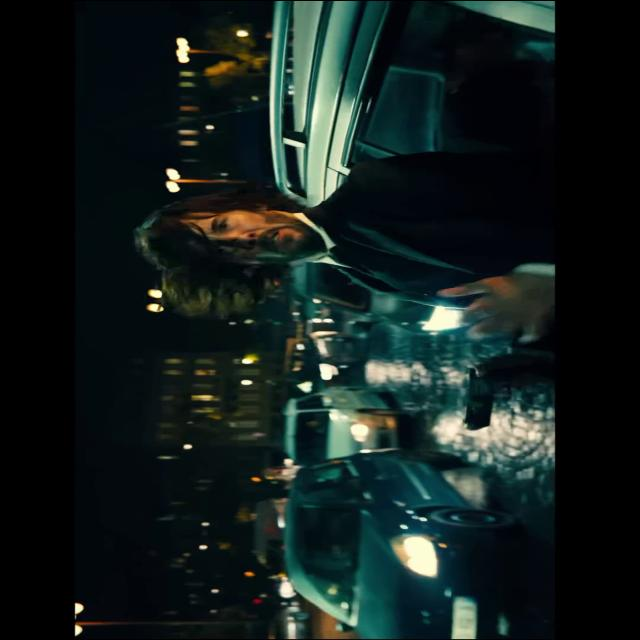weapons: (449, 349, 549, 436)
